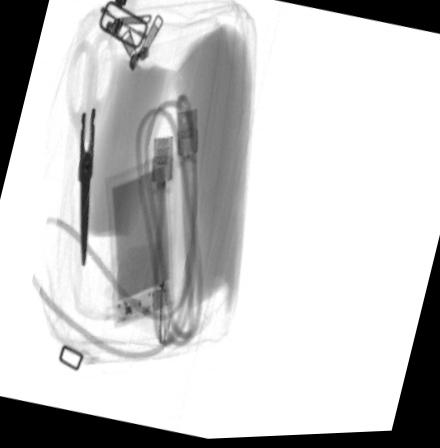Powerbank: (105, 151, 175, 334)
Scissors: (62, 26, 116, 267)
